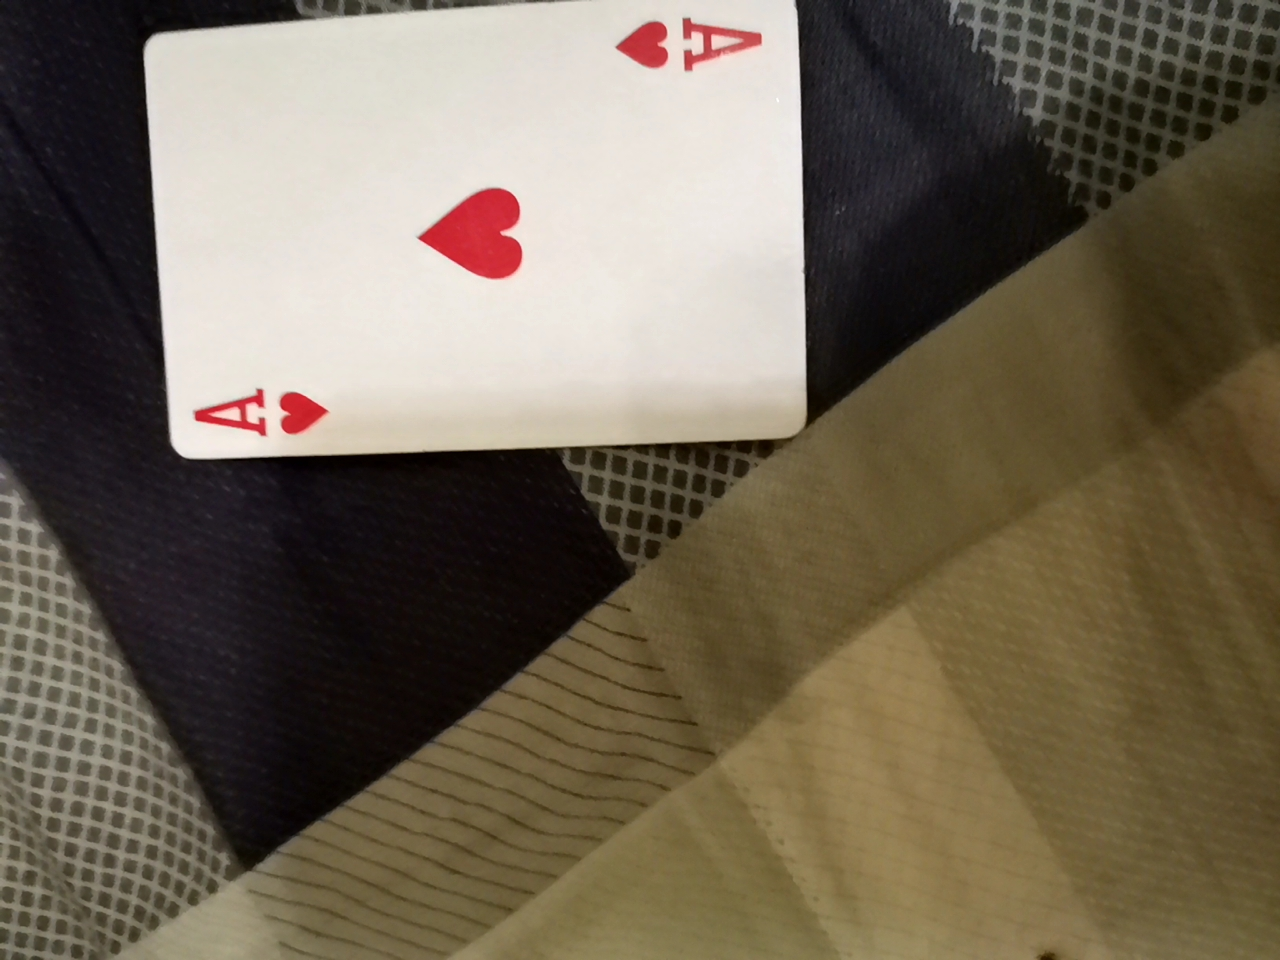hx a: (121, 0, 820, 440)
